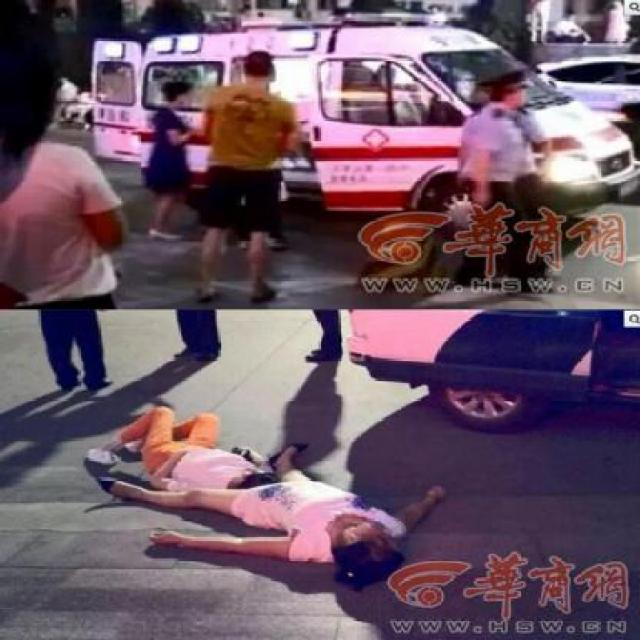fall: (77, 390, 292, 519)
